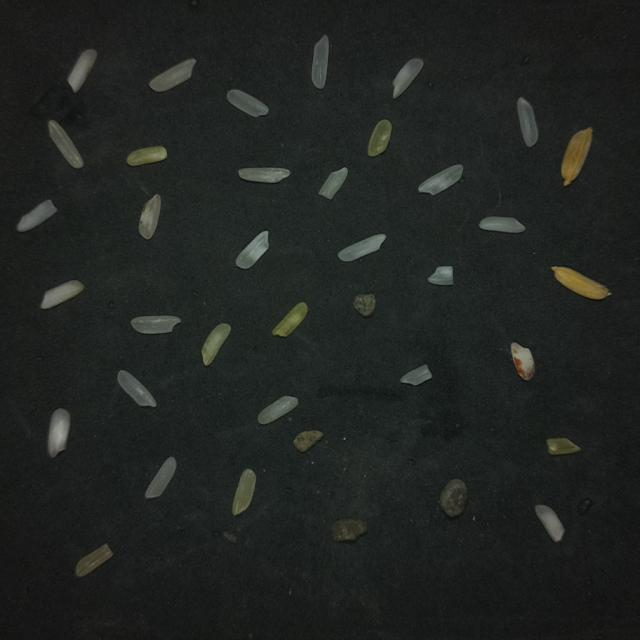broken: (235, 231, 269, 269), (17, 200, 57, 231), (392, 59, 423, 99), (258, 396, 298, 424), (319, 167, 348, 199), (479, 217, 525, 233), (400, 365, 432, 385), (428, 266, 453, 285)
chalky: (40, 280, 84, 309), (68, 50, 97, 93), (48, 409, 70, 458), (535, 505, 564, 542)
discolored: (272, 302, 308, 336), (202, 324, 231, 366), (75, 544, 113, 576), (232, 469, 256, 515), (139, 194, 161, 239), (368, 120, 391, 156), (127, 146, 167, 166), (547, 438, 581, 454)
foreign: (440, 479, 467, 518), (332, 519, 366, 541), (294, 430, 323, 452), (354, 294, 375, 316)
paddy: (552, 267, 611, 299), (562, 127, 592, 186)
red: (510, 342, 534, 380)
whole: (49, 120, 84, 168), (149, 59, 196, 92), (117, 370, 156, 407), (419, 165, 463, 195), (338, 234, 386, 261), (145, 457, 176, 498), (227, 90, 268, 117), (517, 97, 538, 147), (311, 35, 329, 89), (131, 315, 181, 334), (239, 167, 290, 183)
